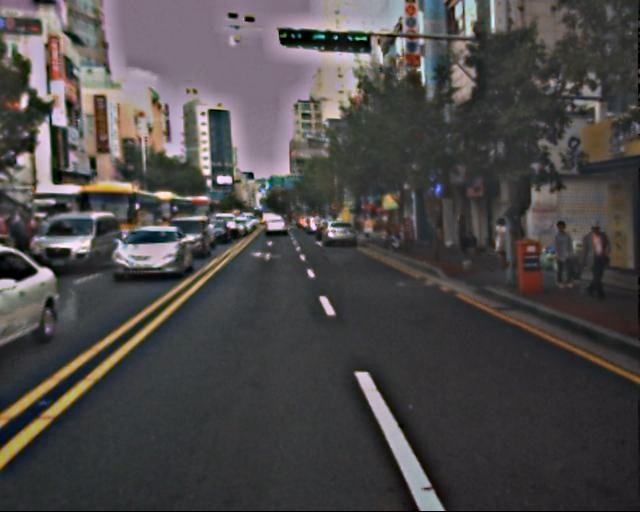person: (574, 219, 608, 302), (545, 217, 575, 290), (492, 215, 515, 270), (454, 210, 474, 258), (432, 207, 449, 249)
